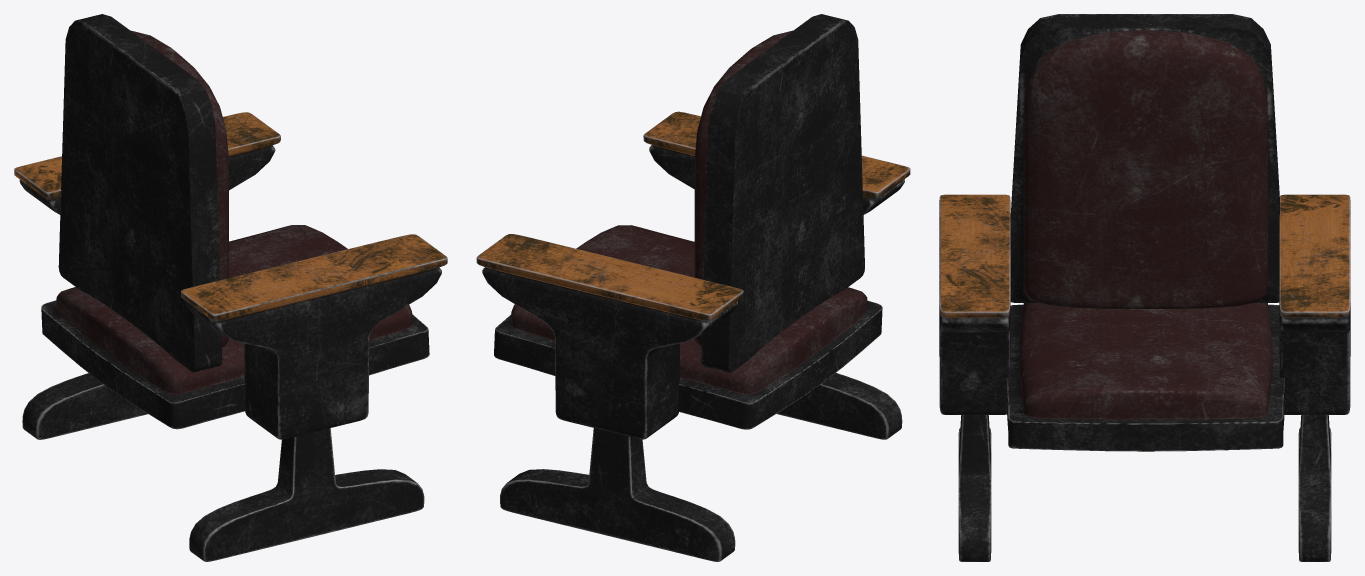
The model's file is cadeira retratil aberto.fbx.
The picture shows the model from 3 angles, left to right: view 1: azimuth 30°, elevation 25°; view 2: azimuth 150°, elevation 25°; view 3: azimuth 270°, elevation 25°; orthographic projection.
Parts seen in each view (by area): view 1: Cube.004; view 2: Cube.004; view 3: Cube.004.
Boxes of the visible parts, <box> form: Cube.004: <box>14,14,447,561</box>; Cube.004: <box>476,14,910,561</box>; Cube.004: <box>939,14,1350,561</box>.
Bounding box in the file's own units: 58 × 90 × 75.
